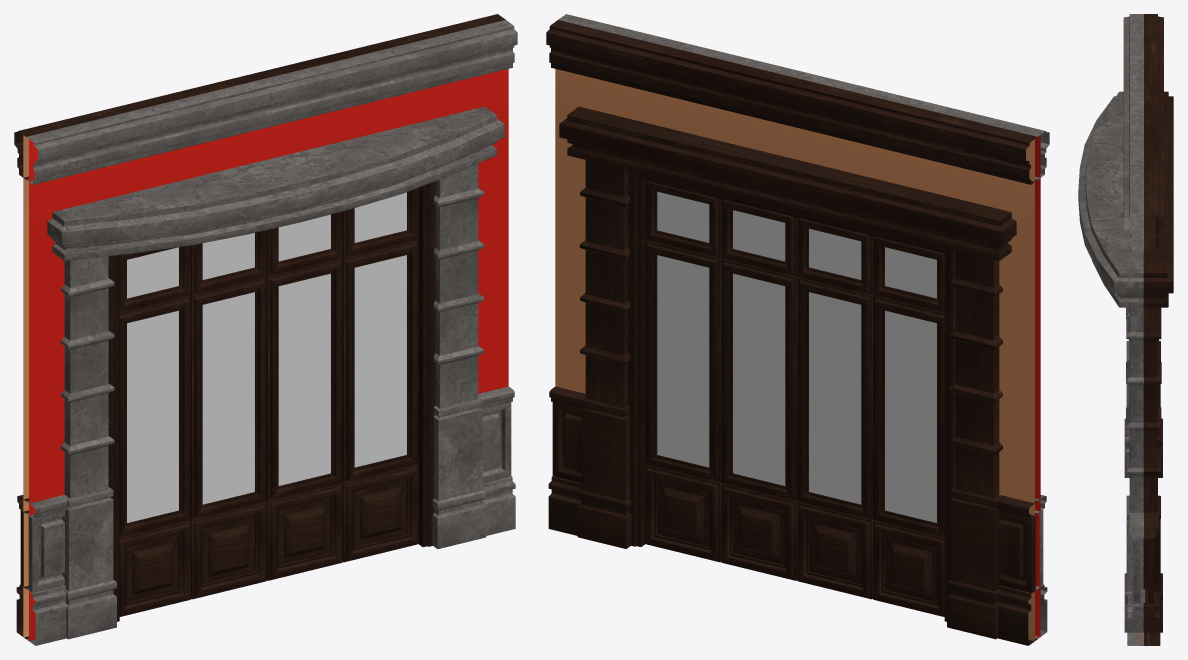
Rendered from SK7 WINDOW 3.fbx.
The picture shows the model from 3 angles, left to right: view 1: azimuth 30°, elevation 25°; view 2: azimuth 150°, elevation 25°; view 3: azimuth 270°, elevation 25°; orthographic projection. The views are drawn at different scales.
Visible parts, largest first — view 1: SK7 WINDOW 3; view 2: SK7 WINDOW 3; view 3: SK7 WINDOW 3.
Part boxes in pixels (<box>): SK7 WINDOW 3: <box>14,14,517,645</box>; SK7 WINDOW 3: <box>546,14,1049,645</box>; SK7 WINDOW 3: <box>1078,14,1173,645</box>.
Bounding box in the file's own units: 400 × 400 × 79.97.
